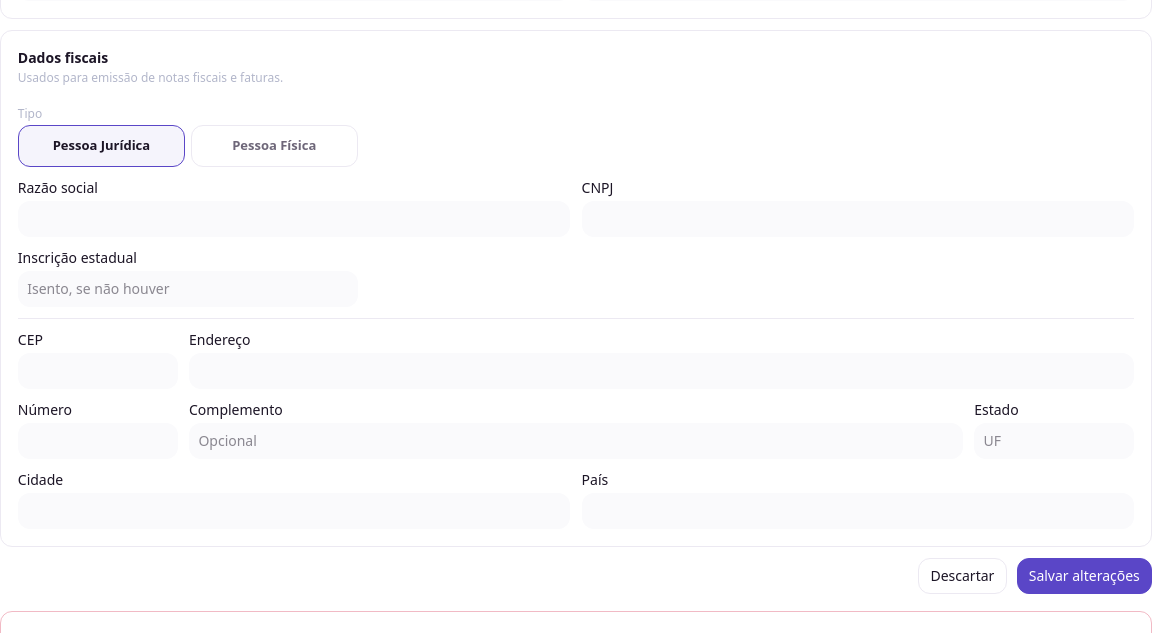
Test: SettingsPage › an invalid timezone from the backend shows the inline error (CFGPG-04)
(page scrolled)
Click the button "Salvar alterações" at coordinates (1084, 576), box x1=1016 y1=558 x2=1151 y2=594
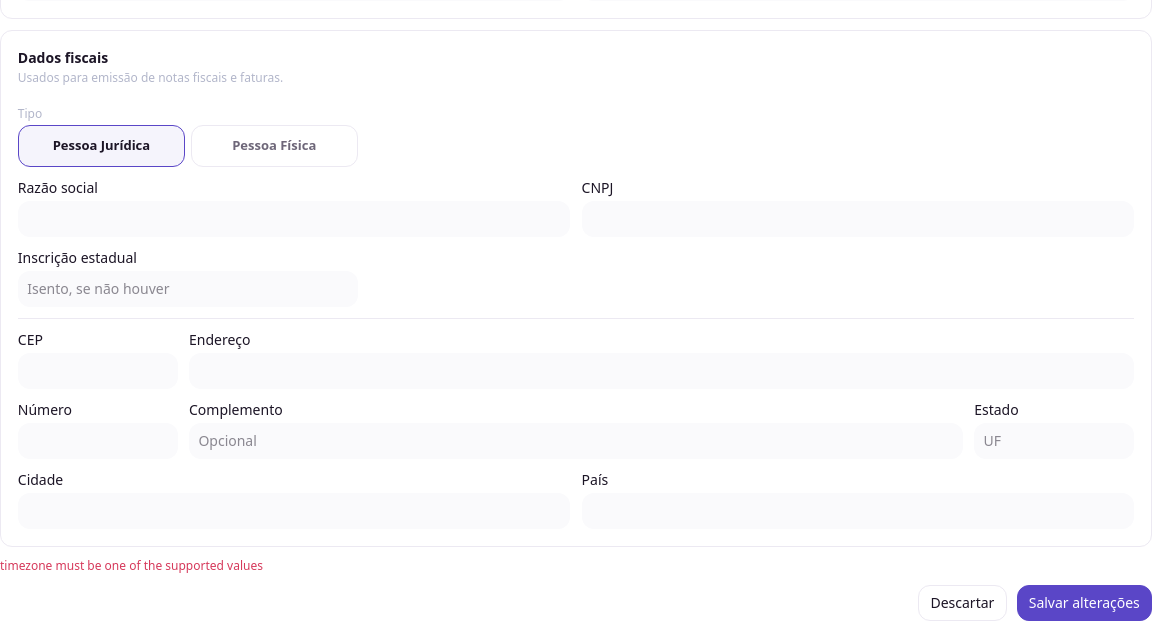
Expected: the message reads "timezone must be one of the supported values", x1=0 y1=557 x2=263 y2=574
